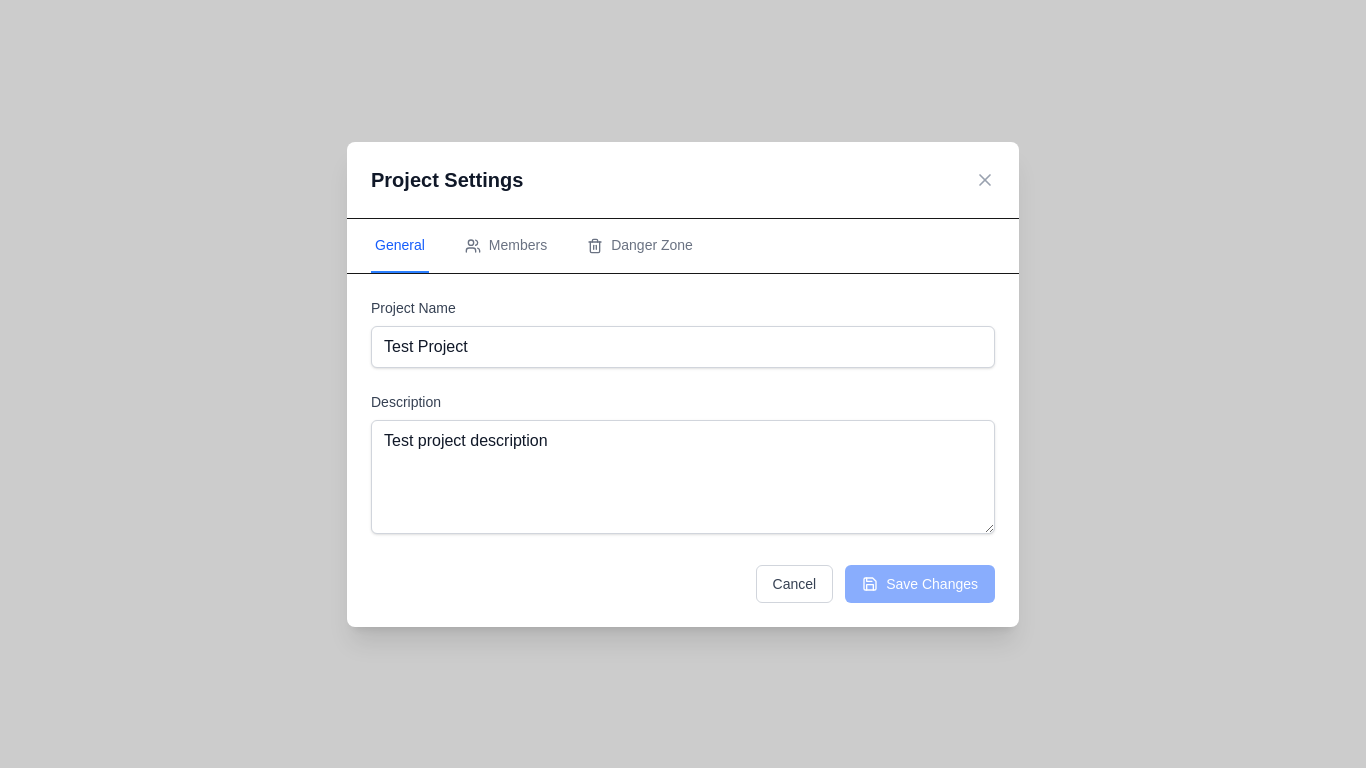
Test: ProjectSettingsModal › validates required fields
The width and height of the screenshot is (1366, 768).
# Clear project name
Clear the field showing "Test Project". click: (683, 346)
box: [371,326,995,368]
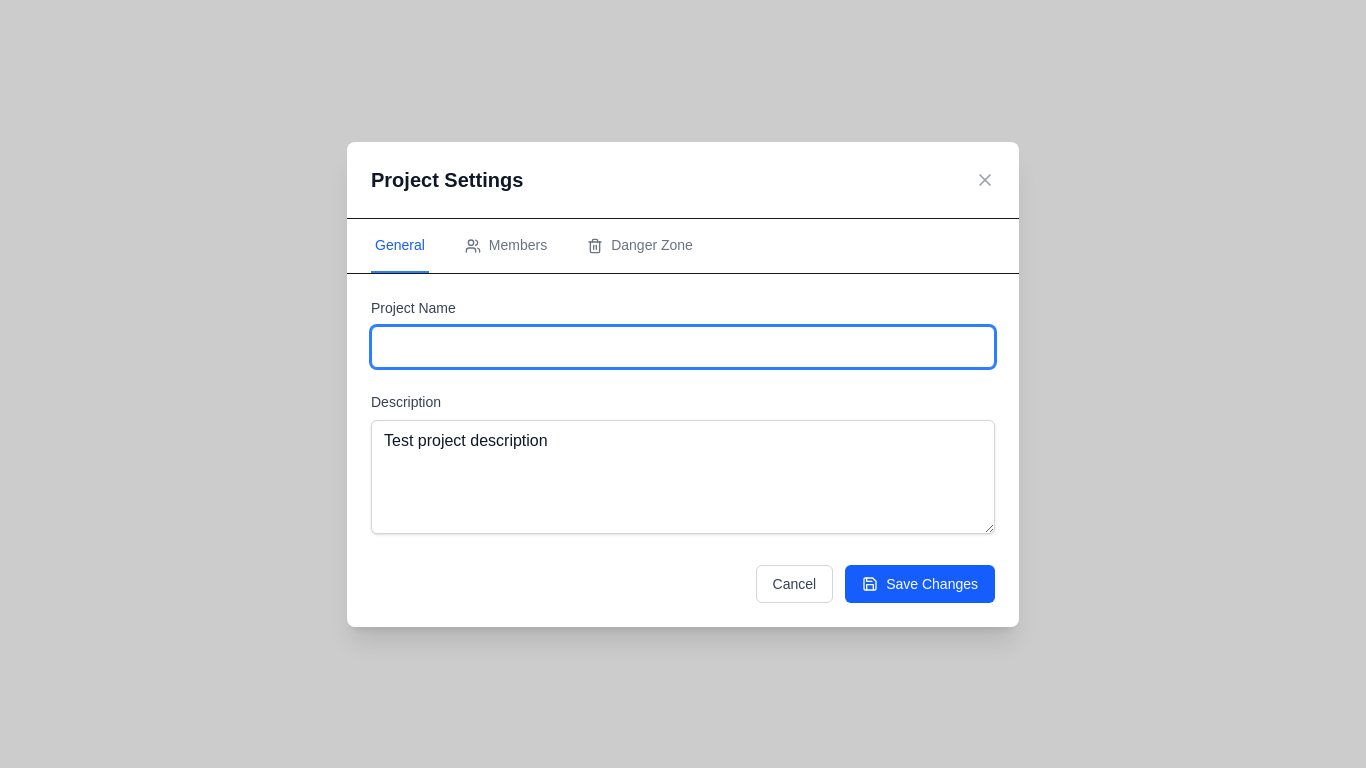
# Try to submit
Click the button "Save Changes". click: click(920, 584)
box: [845,564,995,602]
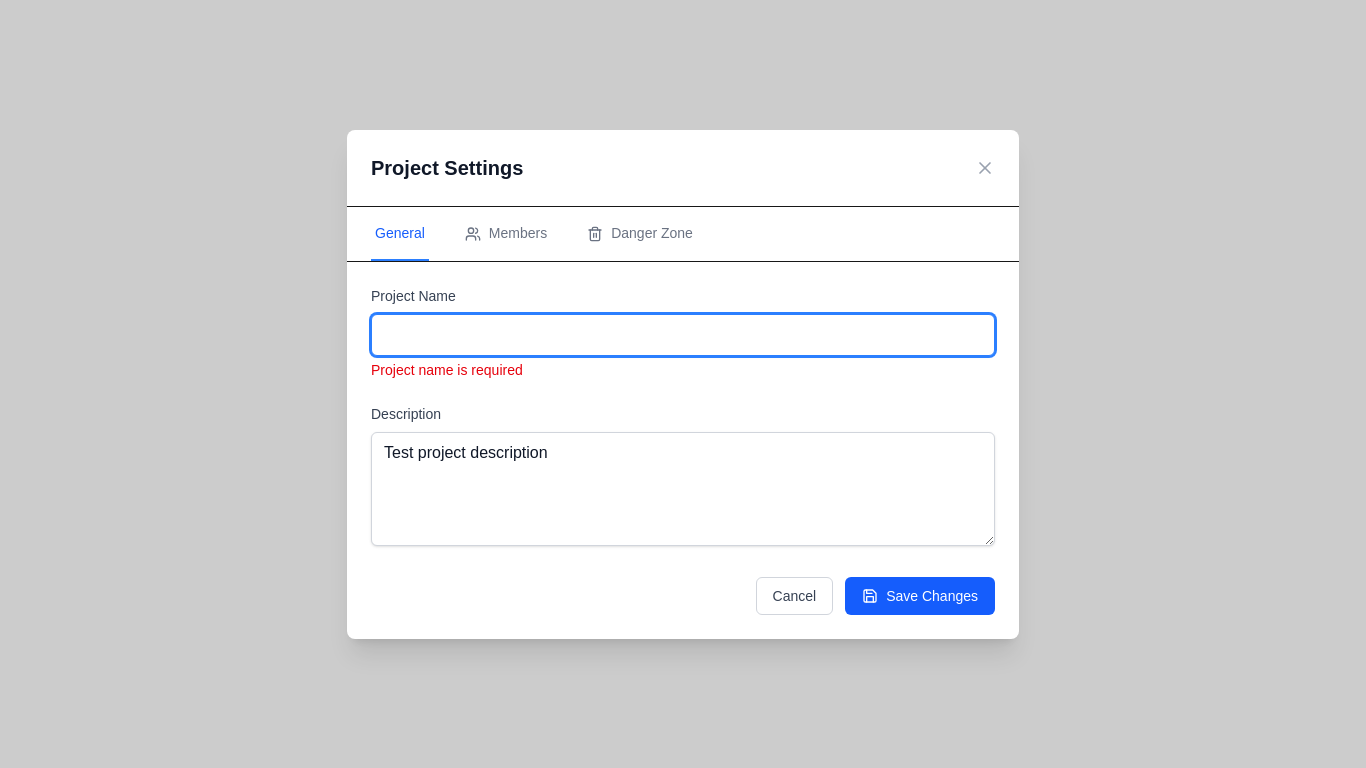
Result: the text "Project name is required" is shown at [371,362,523,378]
